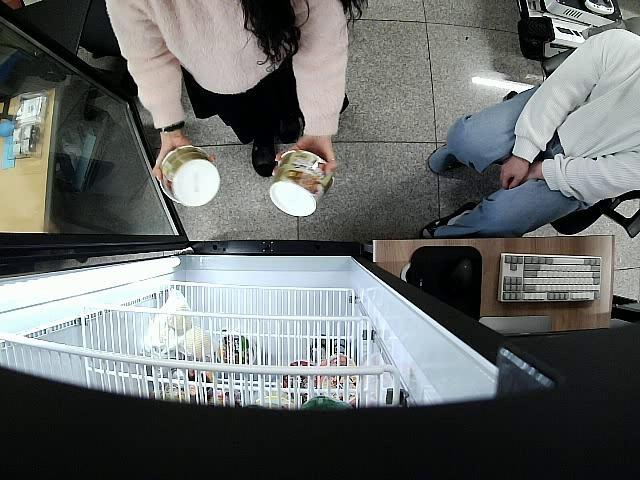03_chapagetti_L: (268, 151, 334, 217), (158, 148, 223, 208)
